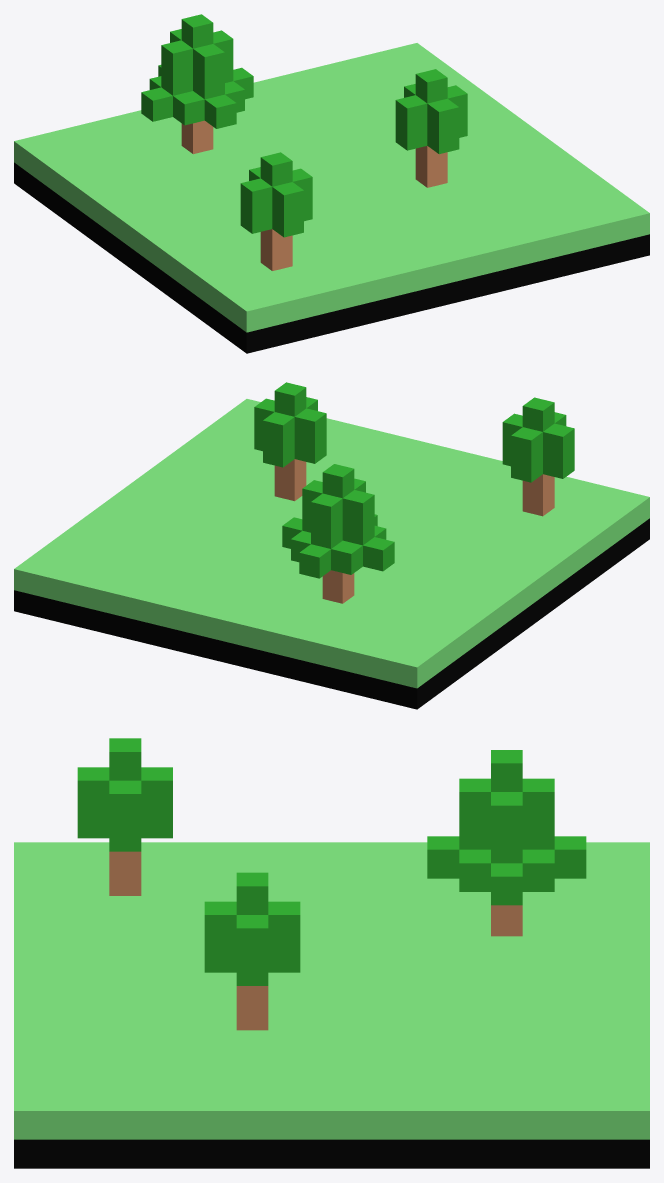
The model's file is Tile1.1.obj.
3 renders of one model, top to bottom at view 1: azimuth 30°, elevation 25°; view 2: azimuth 150°, elevation 25°; view 3: azimuth 270°, elevation 25°, orthographic. The views are drawn at different scales.
Bounding box in the file's own units: 2 × 0.8 × 2.
